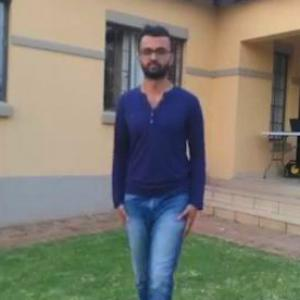follow: (110, 24, 210, 299)
